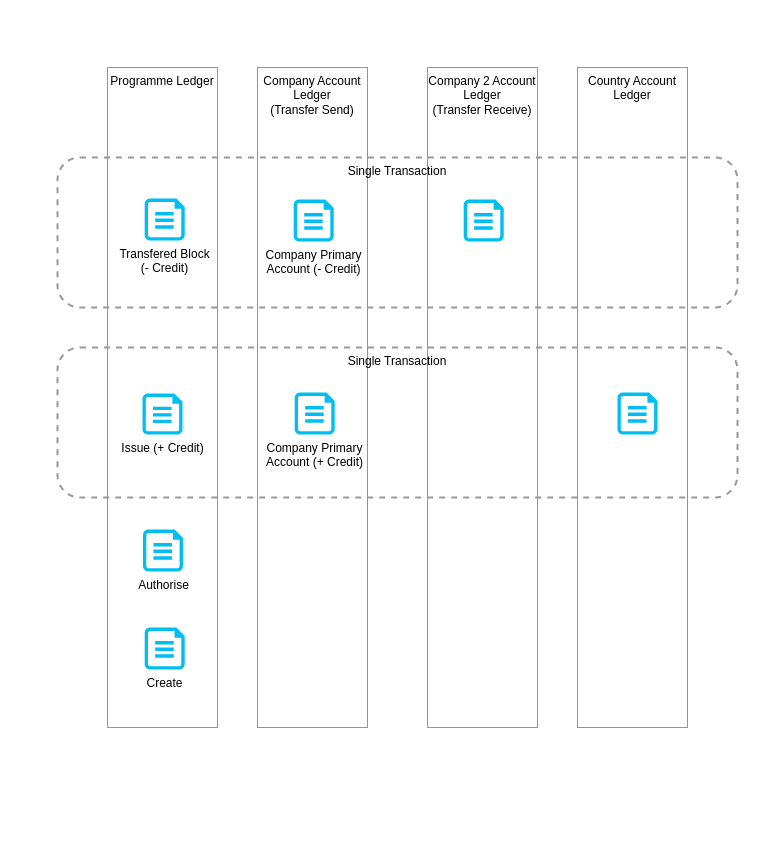
Image size: 774x864. Some labels were removed from this diagram. Here are the shapes that lost their labels. From the top down, the centre of each, then its label:
the point at 483,220: Company Receiver Account (+ Credit)
the point at 637,413: Country Account (+ Credit)
